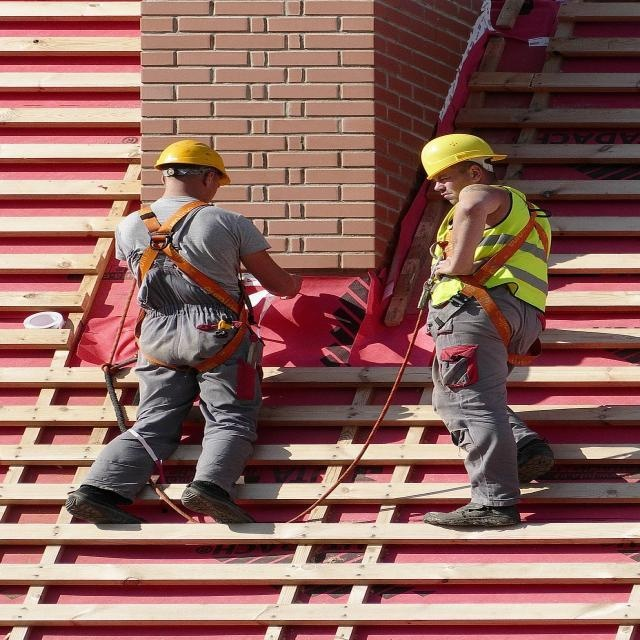Arnes_seguridad: (126, 194, 258, 381), (437, 189, 554, 371)
